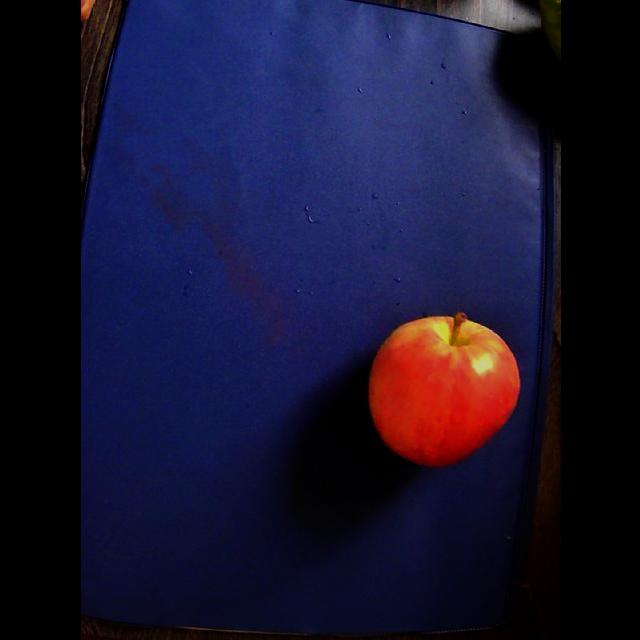manzana: (367, 313, 520, 467)
